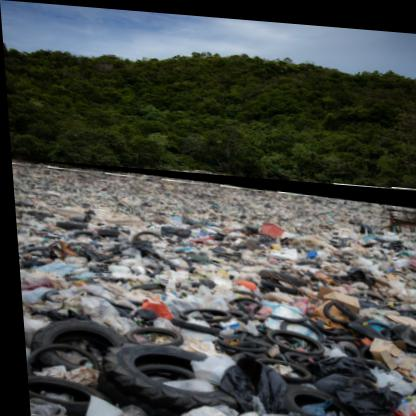Garbage: (10, 159, 416, 416)
